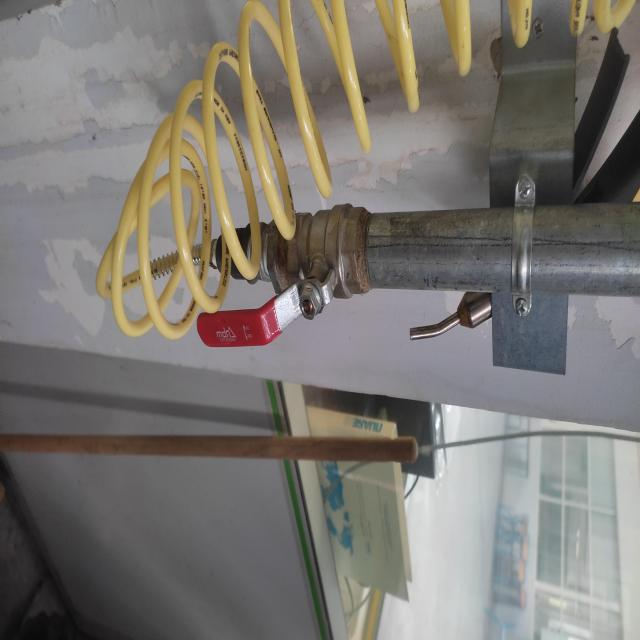opened_valve: (197, 198, 368, 349)
